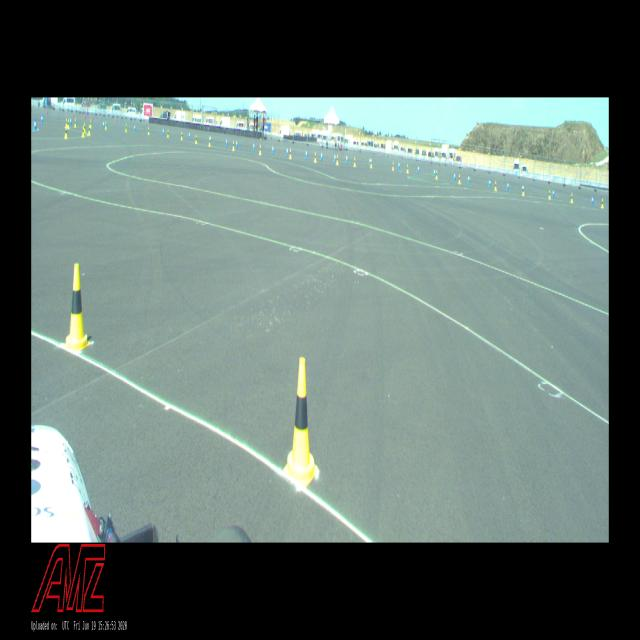blue_cone: (33, 119, 37, 131), (467, 174, 470, 184), (453, 172, 456, 181), (305, 149, 308, 158), (488, 178, 491, 187), (591, 196, 594, 204), (225, 139, 228, 146), (272, 144, 274, 154), (552, 188, 554, 198), (334, 152, 336, 162), (253, 142, 255, 151), (236, 139, 238, 148), (346, 154, 348, 163), (286, 147, 288, 156), (507, 181, 509, 190), (41, 115, 43, 123), (434, 168, 436, 176), (321, 152, 323, 160), (102, 120, 104, 128), (70, 117, 72, 125), (398, 161, 400, 169), (162, 128, 164, 135), (188, 132, 190, 139), (418, 165, 420, 172), (134, 124, 136, 131), (210, 135, 212, 142), (369, 157, 370, 165)
yellow_cone: (281, 358, 318, 491), (63, 264, 91, 350), (64, 125, 68, 139), (289, 148, 292, 159), (259, 144, 262, 155), (494, 180, 497, 191), (82, 126, 85, 137), (88, 124, 91, 135), (314, 152, 317, 162), (548, 189, 551, 199), (601, 198, 604, 208), (458, 175, 461, 184), (406, 164, 409, 173), (232, 141, 235, 150), (336, 156, 339, 165), (522, 184, 524, 197), (84, 122, 86, 133), (370, 158, 372, 168), (68, 119, 70, 129), (436, 170, 438, 179), (392, 161, 394, 170), (74, 119, 76, 128), (181, 131, 183, 140), (354, 157, 356, 166), (571, 193, 573, 202), (66, 119, 68, 128), (195, 135, 197, 143), (90, 120, 92, 128), (208, 138, 210, 146), (167, 129, 169, 137), (148, 127, 150, 135), (125, 124, 127, 131), (105, 122, 107, 129)
